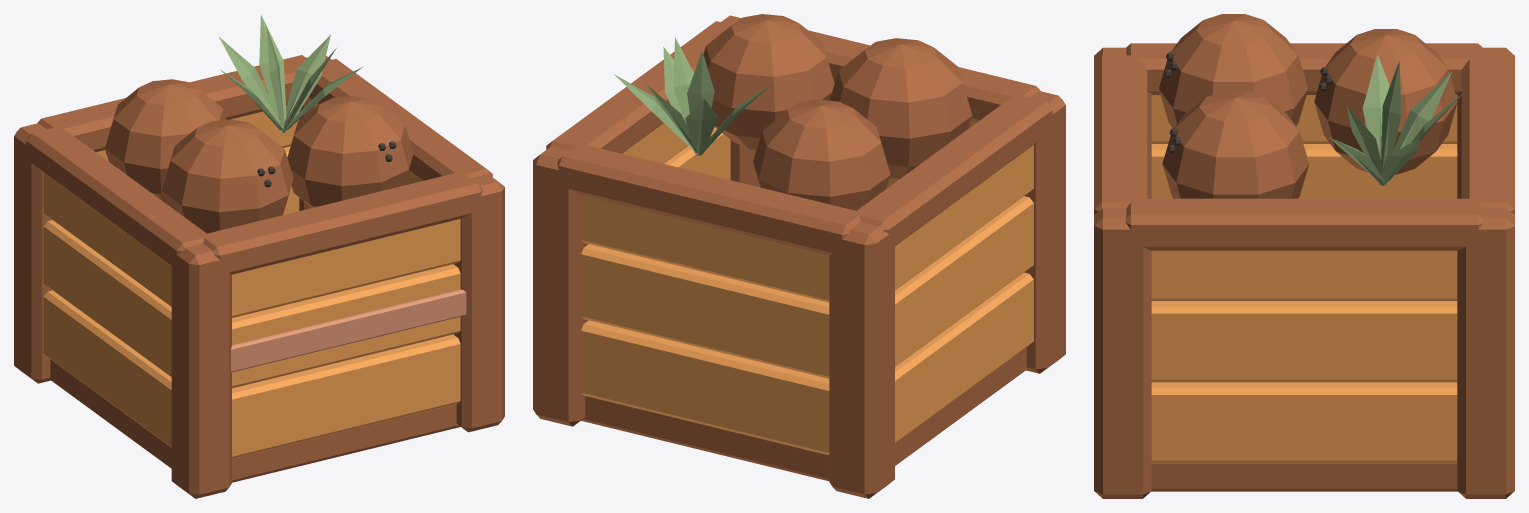
The model's file is coconutCrate.glb.
3 views of the same model, side by side, from view 1: azimuth 30°, elevation 25°; view 2: azimuth 150°, elevation 25°; view 3: azimuth 270°, elevation 25° (orthographic). The views are drawn at different scales.
Parts seen in each view (by area): view 1: coconutCrate; view 2: coconutCrate; view 3: coconutCrate.
Boxes of the visible parts, <box> form: coconutCrate: <box>14,15,504,498</box>; coconutCrate: <box>533,14,1065,498</box>; coconutCrate: <box>1094,14,1514,498</box>.
Bounding box in the file's own units: 0.95 × 0.95 × 0.95.
Materials: 1 (1 with a texture image).
